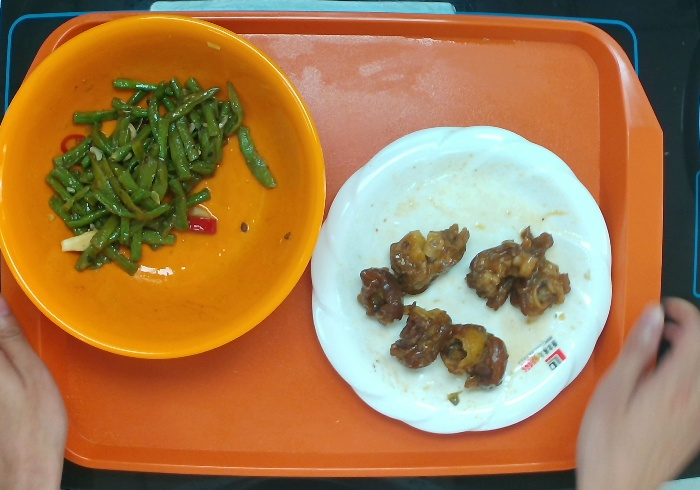ZNLD-Hua_Bian_Wan: (306, 121, 617, 438)
ZNLD-Ju_Se_Tang_Wan: (1, 10, 330, 363)
